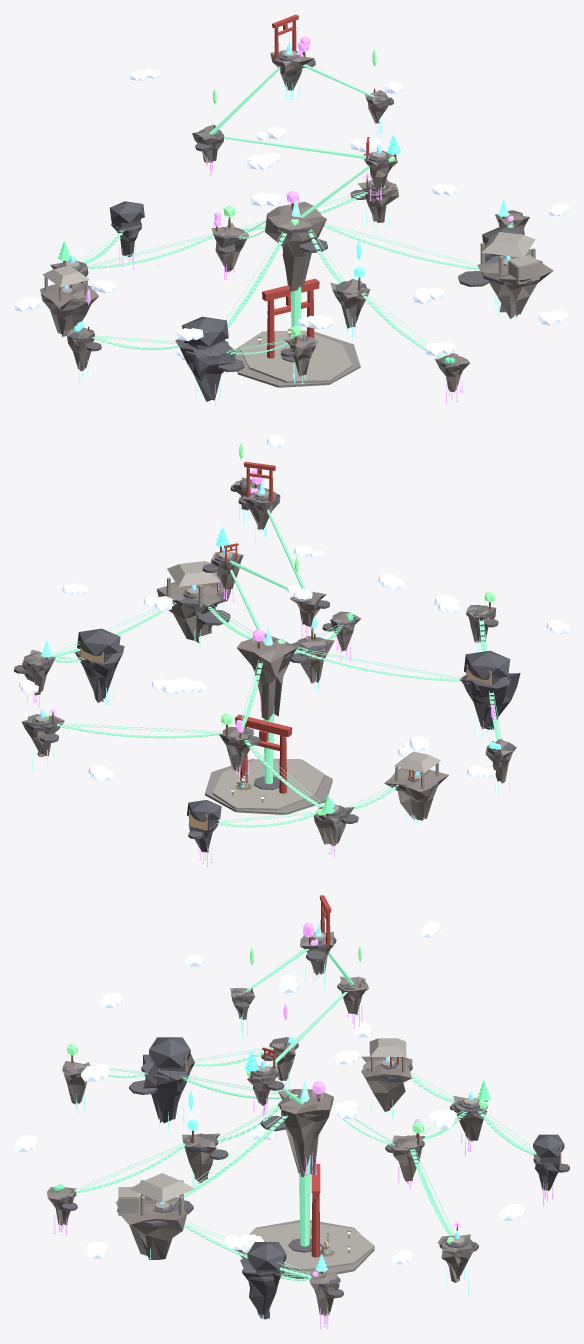
File: 20261010_Pandora.glb
3 renders of one model, top to bottom at view 1: azimuth 30°, elevation 25°; view 2: azimuth 150°, elevation 25°; view 3: azimuth 270°, elevation 25°, orthographic. The views are drawn at different scales.
Visible parts, largest first — view 1: Start_Plaza_Step, Central_Rock, Cave_NW_Rock, Temple_NE_Rock, Temple_SW_Rock, Torii_Start, Start_Plaza, Temple_Roof, Mid_North_Rock, Cave_NW_Mound, Mid_South_Rock, Bridge_Central_Temple (+13 smaller); view 2: Start_Plaza_Step, Central_Rock, Temple_NE_Rock, Cave_NW_Rock, Temple_SW_Rock, Torii_Start, Start_Plaza, Cave_East_Rock, Cave_NW_Mound, Cave_East_Mound, Temple_Roof, Bridge_Central_Cave (+16 smaller); view 3: Start_Plaza_Step, Central_Rock, Temple_NE_Rock, Cave_NW_Rock, Temple_SW_Rock, Cave_East_Rock, Cave_NW_Mound, Temple_Roof, Mid_North_Rock, Cave_East_Mound, Mid_South_Rock, Start_RootPillar (+14 smaller).
Part boxes in pixels (left/top/right/bottom): Start_Plaza_Step: left=239, top=330, right=352, bottom=382; Central_Rock: left=265, top=201, right=326, bottom=291; Cave_NW_Rock: left=175, top=339, right=235, bottom=401; Temple_NE_Rock: left=477, top=249, right=553, bottom=318; Temple_SW_Rock: left=40, top=282, right=98, bottom=337; Torii_Start: left=262, top=278, right=319, bottom=358; Start_Plaza: left=235, top=331, right=360, bottom=387; Temple_Roof: left=481, top=232, right=535, bottom=257; Mid_North_Rock: left=330, top=279, right=370, bottom=328; Cave_NW_Mound: left=182, top=316, right=228, bottom=346; Mid_South_Rock: left=211, top=223, right=248, bottom=271; Bridge_Central_Temple: left=323, top=223, right=479, bottom=270; Start_Plaza_Step: left=212, top=758, right=324, bottom=810; Central_Rock: left=236, top=633, right=299, bottom=720; Temple_NE_Rock: left=156, top=582, right=233, bottom=643; Cave_NW_Rock: left=460, top=673, right=520, bottom=729; Temple_SW_Rock: left=384, top=768, right=448, bottom=820; Torii_Start: left=235, top=714, right=292, bottom=793; Start_Plaza: left=205, top=759, right=332, bottom=814; Cave_East_Rock: left=74, top=645, right=124, bottom=702; Cave_NW_Mound: left=464, top=650, right=510, bottom=679; Cave_East_Mound: left=77, top=628, right=120, bottom=656; Temple_Roof: left=167, top=561, right=219, bottom=586; Bridge_Central_Cave: left=295, top=648, right=462, bottom=681; Start_Plaza_Step: left=238, top=1223, right=374, bottom=1271; Central_Rock: left=278, top=1089, right=333, bottom=1176; Temple_NE_Rock: left=116, top=1196, right=187, bottom=1259; Cave_NW_Rock: left=143, top=1054, right=194, bottom=1123; Temple_SW_Rock: left=361, top=1056, right=412, bottom=1111; Cave_East_Rock: left=240, top=1258, right=284, bottom=1319; Cave_NW_Mound: left=149, top=1037, right=190, bottom=1067; Temple_Roof: left=130, top=1173, right=194, bottom=1202; Mid_North_Rock: left=182, top=1133, right=219, bottom=1183; Cave_East_Mound: left=247, top=1242, right=286, bottom=1270; Mid_South_Rock: left=391, top=1135, right=424, bottom=1181; Start_RootPillar: left=299, top=1155, right=310, bottom=1246.
Bounding box in the file's own units: 86.25 × 55.43 × 80.29.
